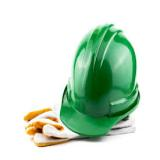Helmet: (59, 21, 141, 137)
